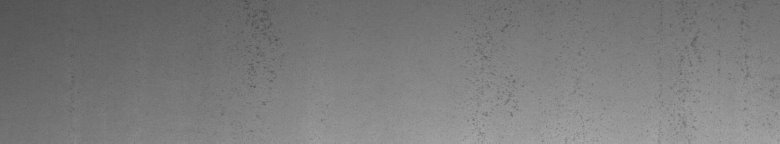ib: (473, 20, 524, 120)
